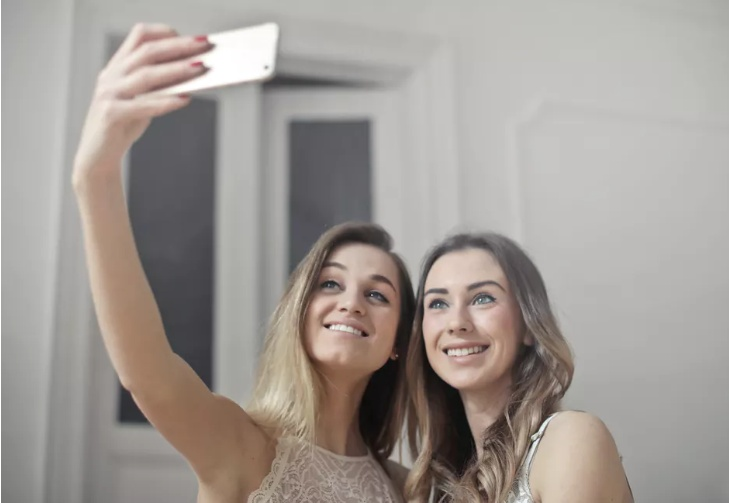face: (304, 245, 401, 371), (424, 252, 510, 389)
